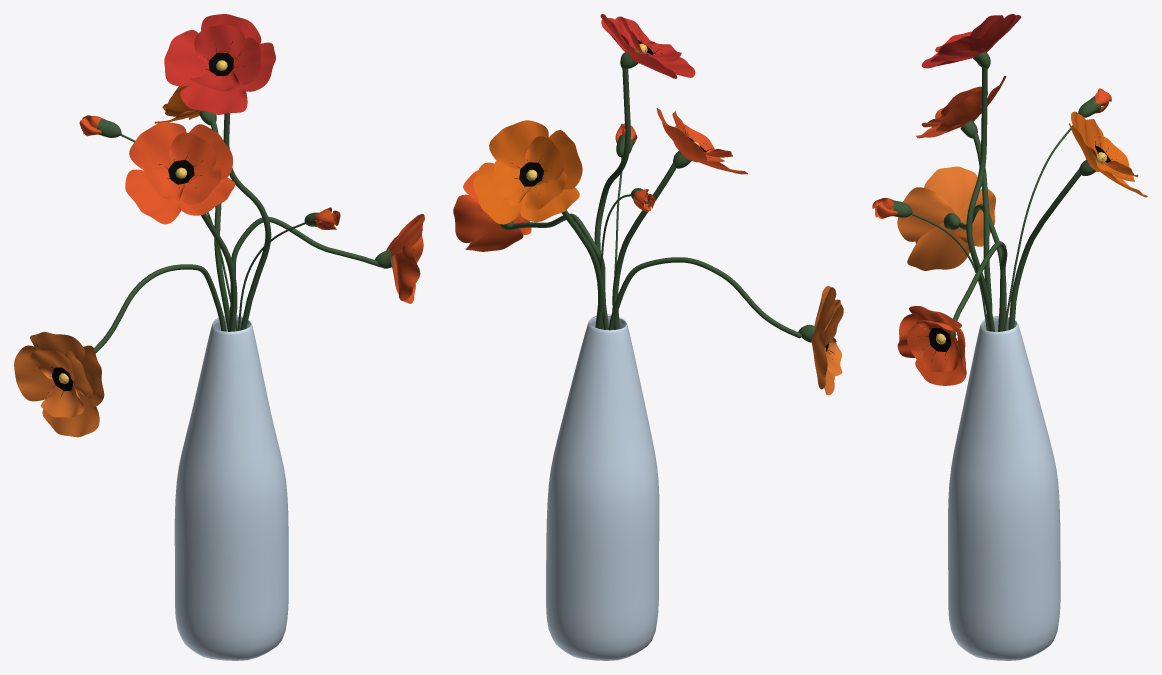
File: VasePoppies3.glb
3 views of the same model, side by side, from view 1: azimuth 30°, elevation 25°; view 2: azimuth 150°, elevation 25°; view 3: azimuth 270°, elevation 25° (orthographic).
Visible parts, largest first — view 1: poppies_final.001, poppies_final.018, poppies_final.002, poppies_final.017, poppies_final.041, poppies_final.039, poppies_final.037, poppies_final.004, poppies_final.008, poppies_final.042, poppies_final.036, poppies_final.038 (+3 smaller); view 2: poppies_final.001, poppies_final.025, poppies_final.002, poppies_final.018, poppies_final.017, poppies_final.006, poppies_final.007, poppies_final.041, poppies_final.004; view 3: poppies_final.001, poppies_final.002, poppies_final.017, poppies_final.018, poppies_final.025, poppies_final.009, poppies_final.036, poppies_final.007, poppies_final.003, poppies_final.005, poppies_final.008, poppies_final.004.
Boxes of the visible parts, x1,y1,x2,y2 form: poppies_final.001: (174,315,288,660); poppies_final.018: (164,14,275,114); poppies_final.002: (93,110,392,353); poppies_final.017: (14,331,104,437); poppies_final.041: (129,122,186,170); poppies_final.039: (125,169,181,224); poppies_final.037: (169,133,216,182); poppies_final.004: (48,41,244,396); poppies_final.008: (396,245,420,300); poppies_final.042: (181,164,221,204); poppies_final.036: (189,124,232,179); poppies_final.038: (179,177,235,215); poppies_final.001: (546,314,659,660); poppies_final.025: (473,120,582,224); poppies_final.002: (498,51,815,342); poppies_final.018: (600,14,695,78); poppies_final.017: (811,286,843,395); poppies_final.006: (453,194,496,243); poppies_final.007: (465,223,523,251); poppies_final.041: (662,122,706,162); poppies_final.004: (512,28,836,359); poppies_final.001: (948,316,1060,660); poppies_final.002: (892,52,1100,336); poppies_final.017: (897,166,995,270); poppies_final.018: (921,14,1021,68); poppies_final.025: (1069,111,1147,197); poppies_final.009: (922,334,960,371); poppies_final.036: (936,91,981,131); poppies_final.007: (915,334,966,385); poppies_final.003: (907,324,929,364); poppies_final.005: (909,306,961,331); poppies_final.008: (897,314,928,357); poppies_final.004: (918,136,1122,361).
Bounding box in the file's own units: 35.47 × 54.67 × 21.79.
